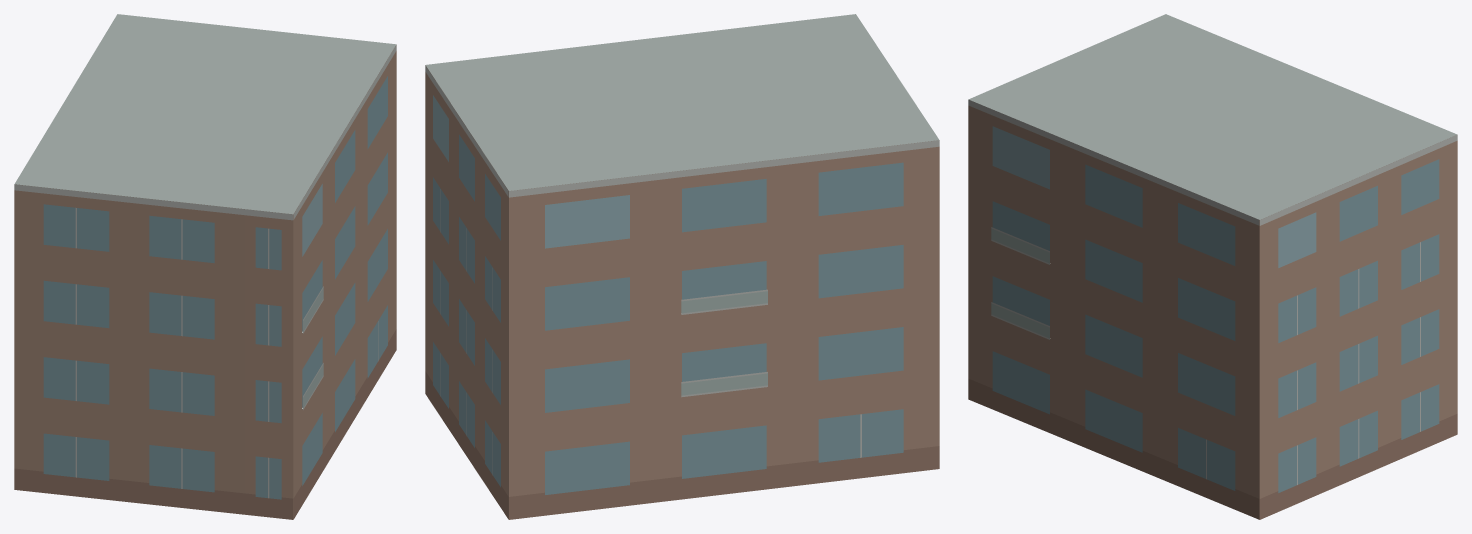
Rendered from residential-1ef54ba2-2780-4fc8-b1a7-56f3d3738830.glb.
The picture shows the model from 3 angles, left to right: view 1: azimuth 30°, elevation 25°; view 2: azimuth 150°, elevation 25°; view 3: azimuth 270°, elevation 25°; orthographic projection. The views are drawn at different scales.
Parts seen in each view (by area): view 1: residential-1ef54ba2-2780-4fc8-b1a7-56f3d3738830.tmp; view 2: residential-1ef54ba2-2780-4fc8-b1a7-56f3d3738830.tmp; view 3: residential-1ef54ba2-2780-4fc8-b1a7-56f3d3738830.tmp.
Part boxes in pixels (x1=…): residential-1ef54ba2-2780-4fc8-b1a7-56f3d3738830.tmp: x1=14, y1=14, x2=396, y2=519; residential-1ef54ba2-2780-4fc8-b1a7-56f3d3738830.tmp: x1=425, y1=14, x2=939, y2=519; residential-1ef54ba2-2780-4fc8-b1a7-56f3d3738830.tmp: x1=968, y1=14, x2=1457, y2=519.
Size of the model in its own units: 17.97 by 12.2 by 18.04.
